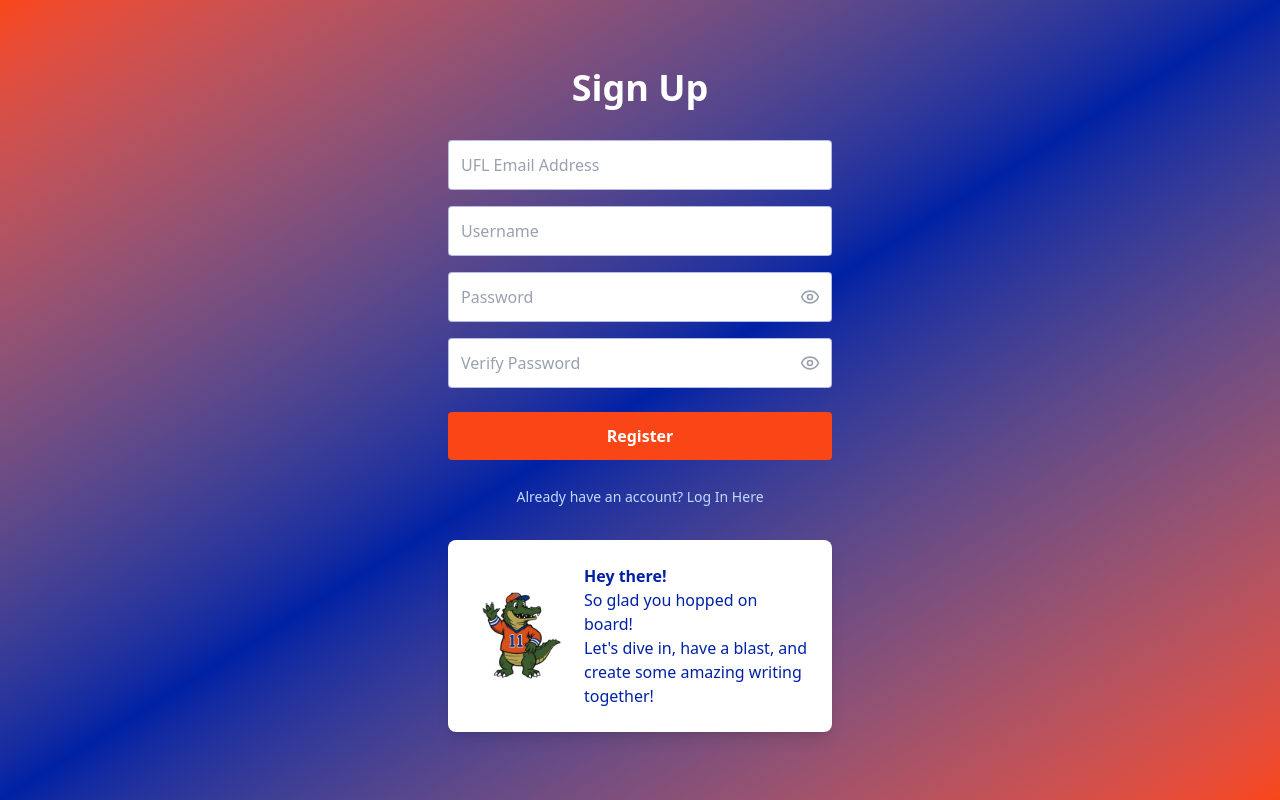
Test: SignUp Page Tests › should validate password requirements
This screenshot has width=1280, height=800.
Type "test@ufl.edu" into the field named "email" at [640, 165], box [448, 140, 832, 190]
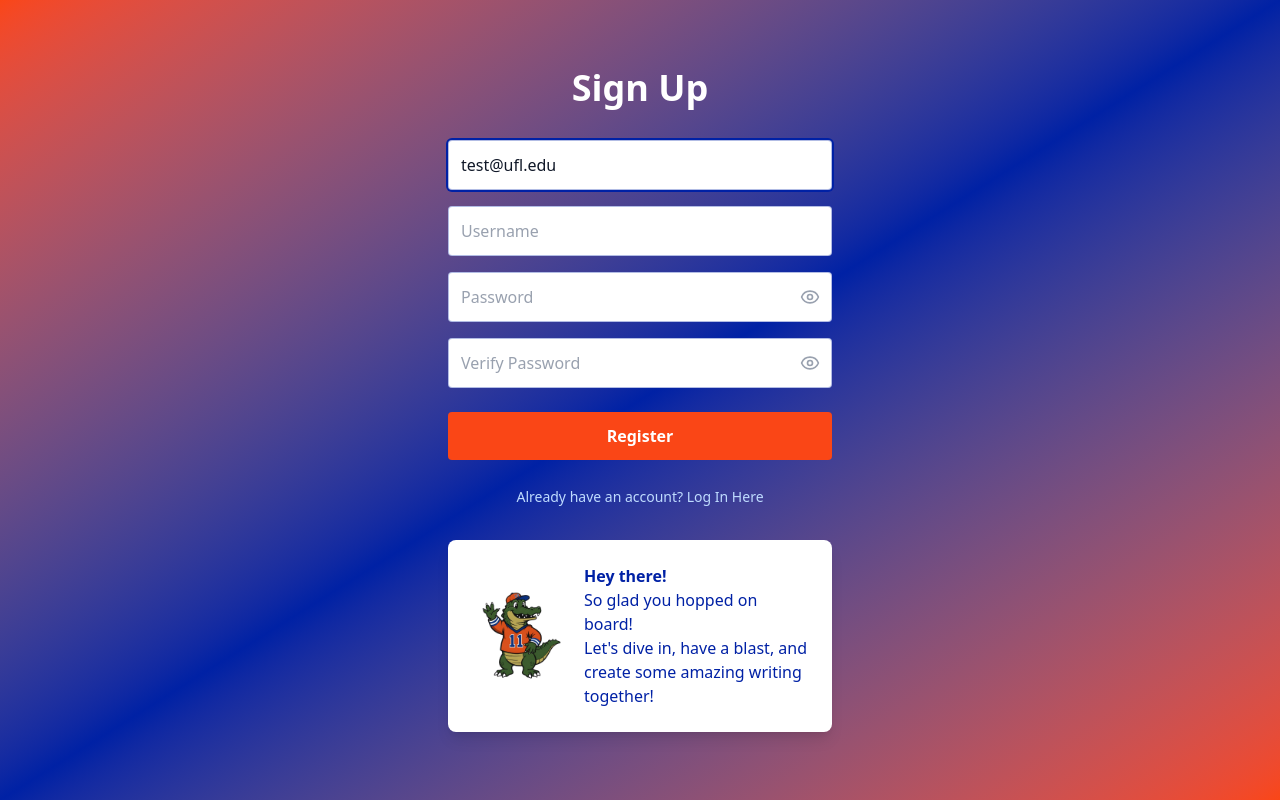
Type "testuser" into the field named "username" at [640, 231], box [448, 206, 832, 256]
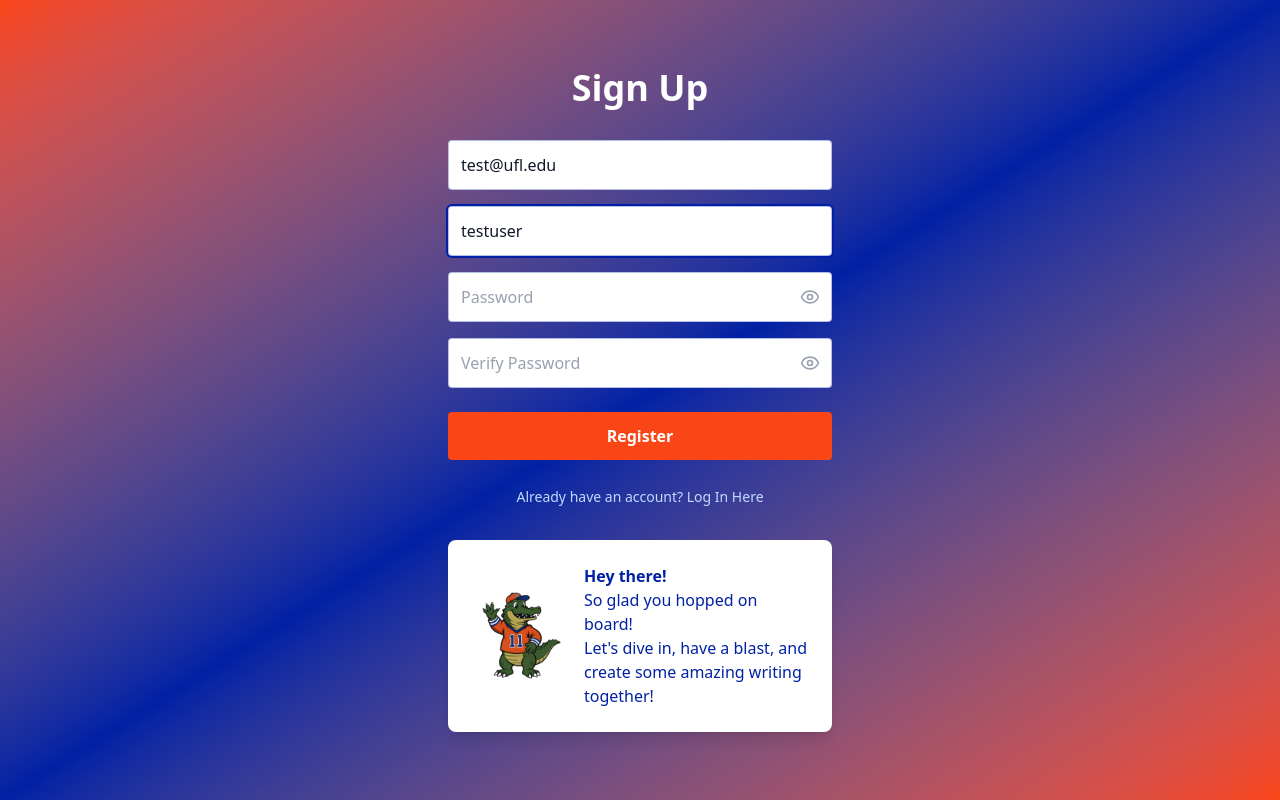
Type "password" into the password field named "password" at [640, 297], box [448, 272, 832, 322]
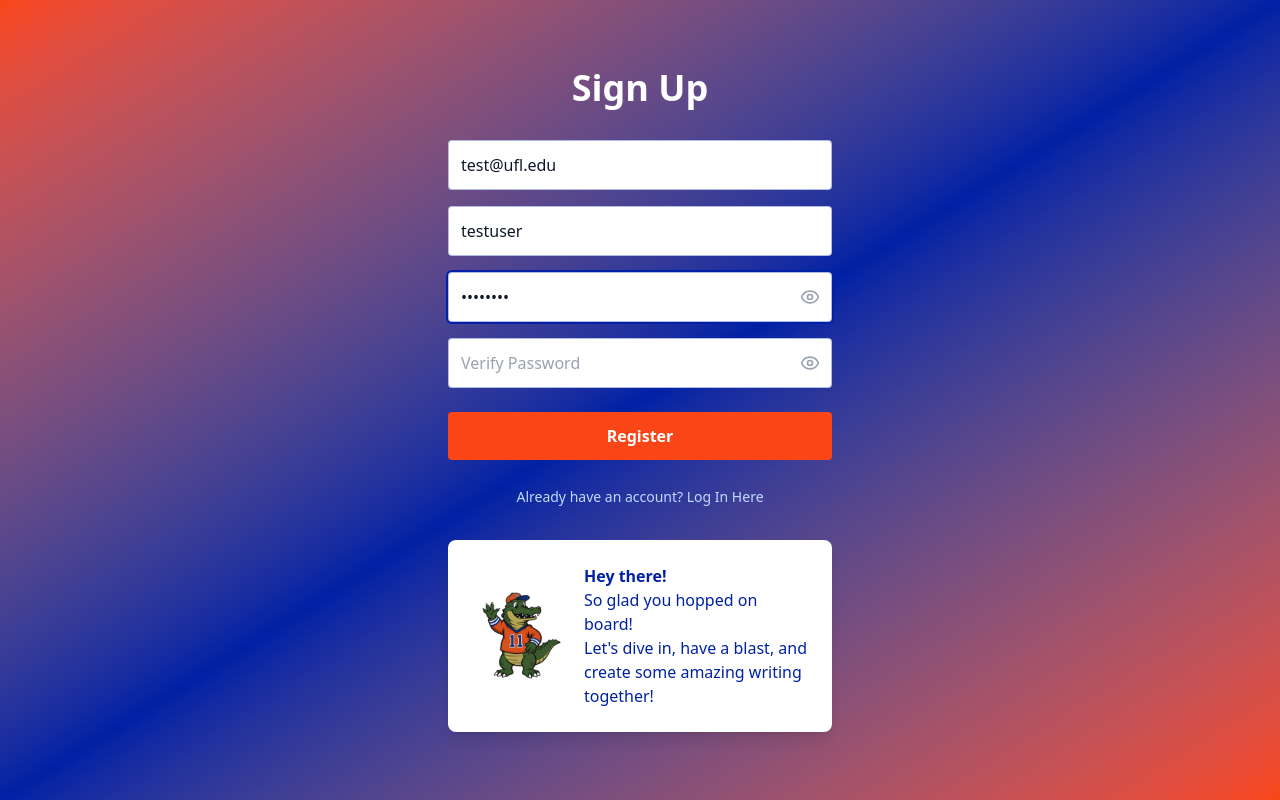
Type "password" into the password field named "verifyPassword" at [640, 363], box [448, 338, 832, 388]
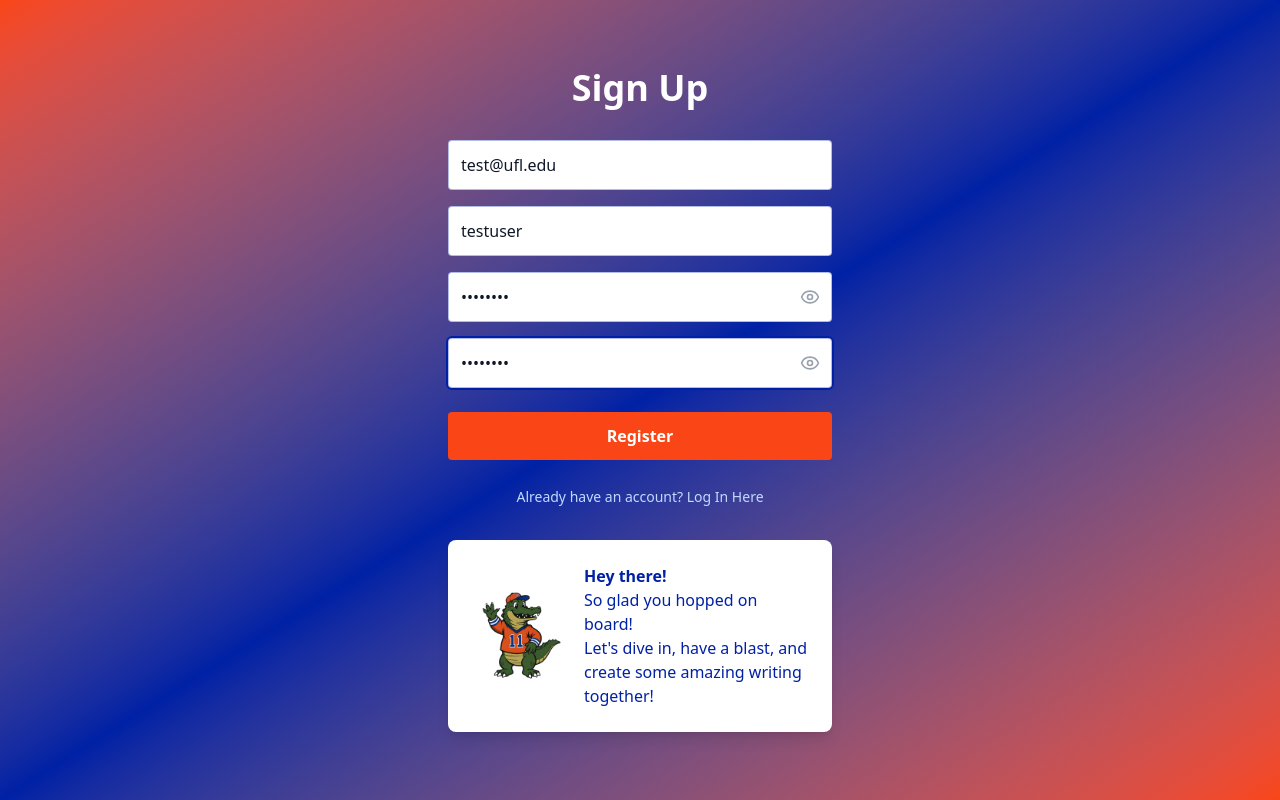
Click the submit button at [640, 436], box [448, 412, 832, 460]
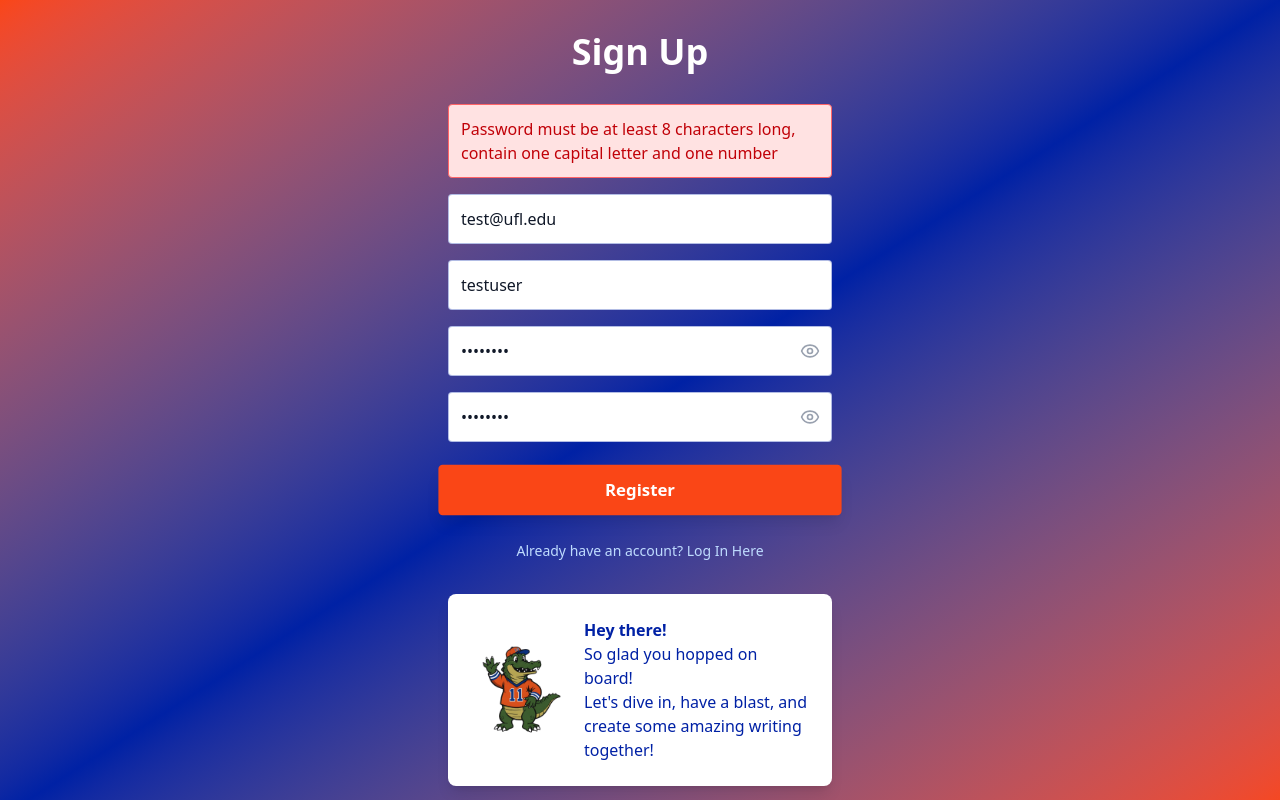
Check: the text "Password must be at least 8 characters long, contain one capital letter and one number" is shown, box [461, 118, 796, 164]
